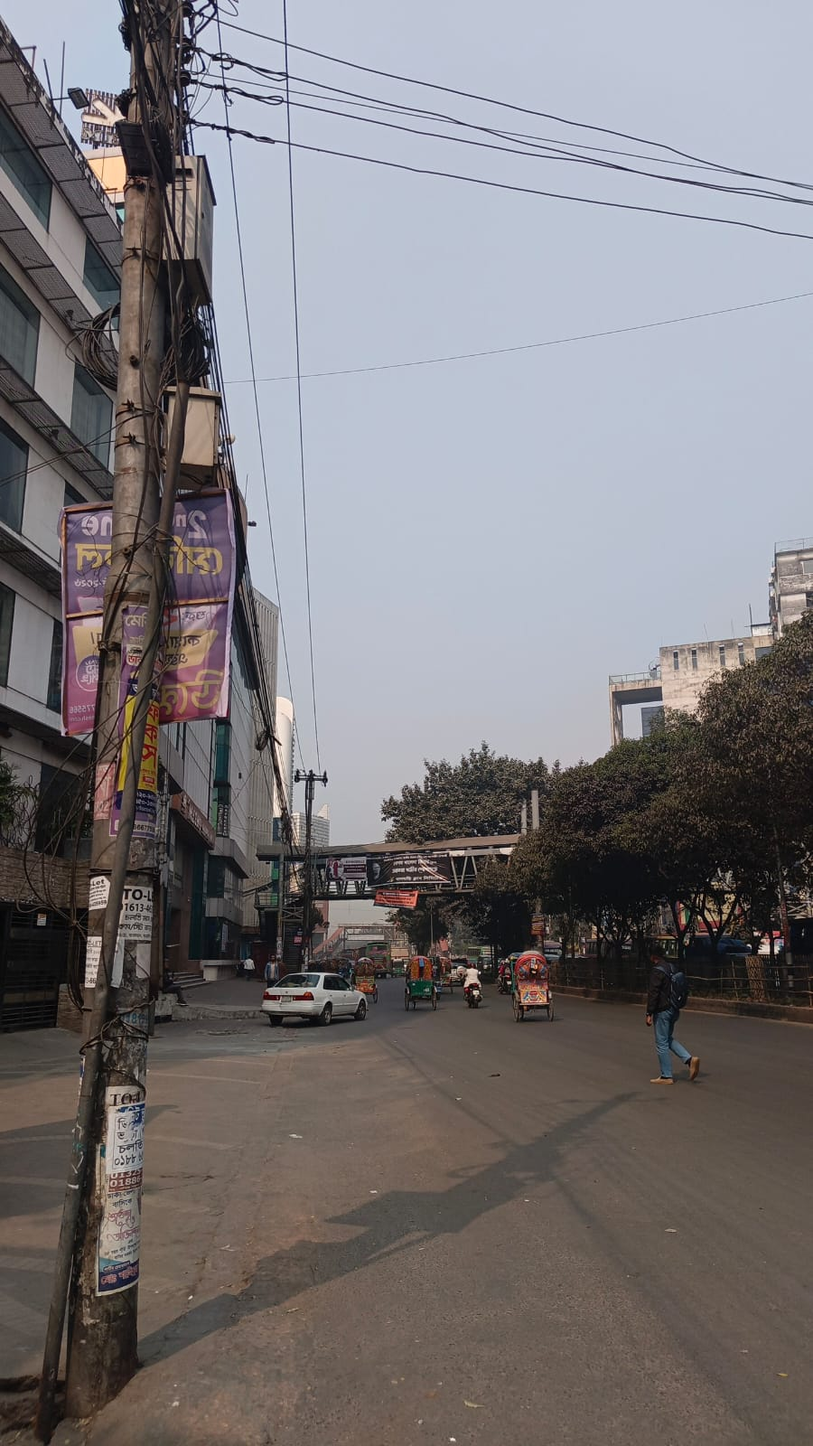Bikes: (461, 937, 496, 1025)
auto-ricksaw: (394, 934, 469, 1032), (506, 949, 578, 1037)
private car: (262, 974, 390, 1037)
